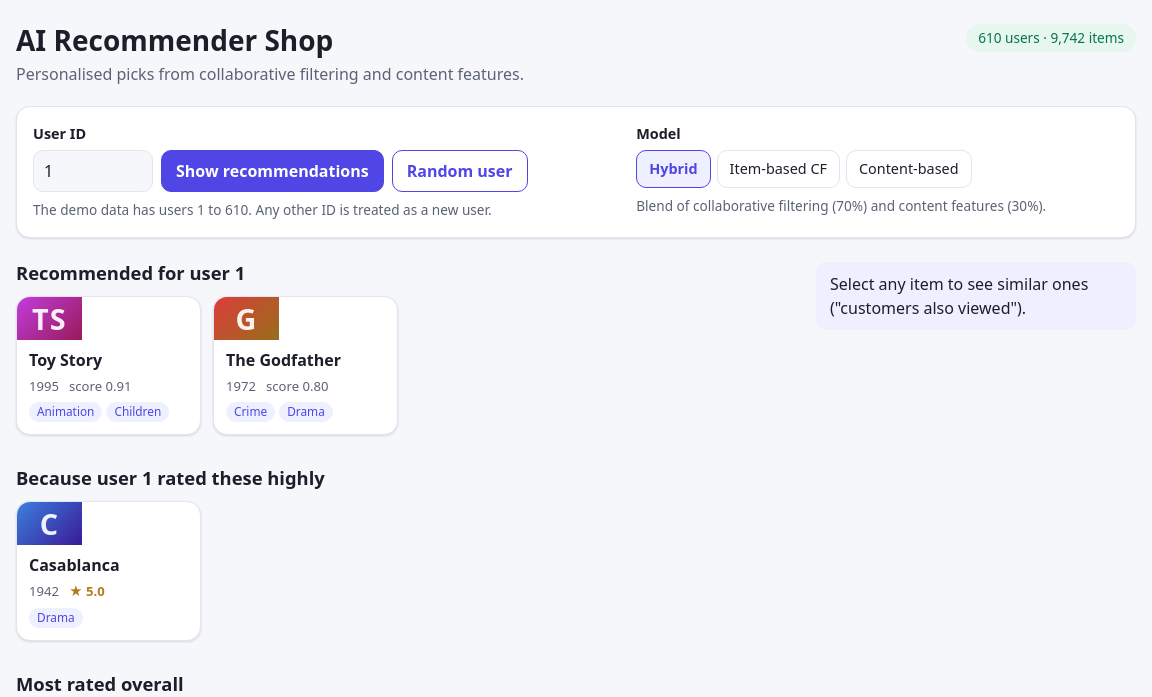
Test: loads another user when the form is submitted
The width and height of the screenshot is (1152, 697).
Expected: the text "The Godfather" is shown, left=226, top=350, right=341, bottom=371
Replace the text in the number field labelled "User ID" with "7" at (93, 171), box left=33, top=150, right=153, bottom=192
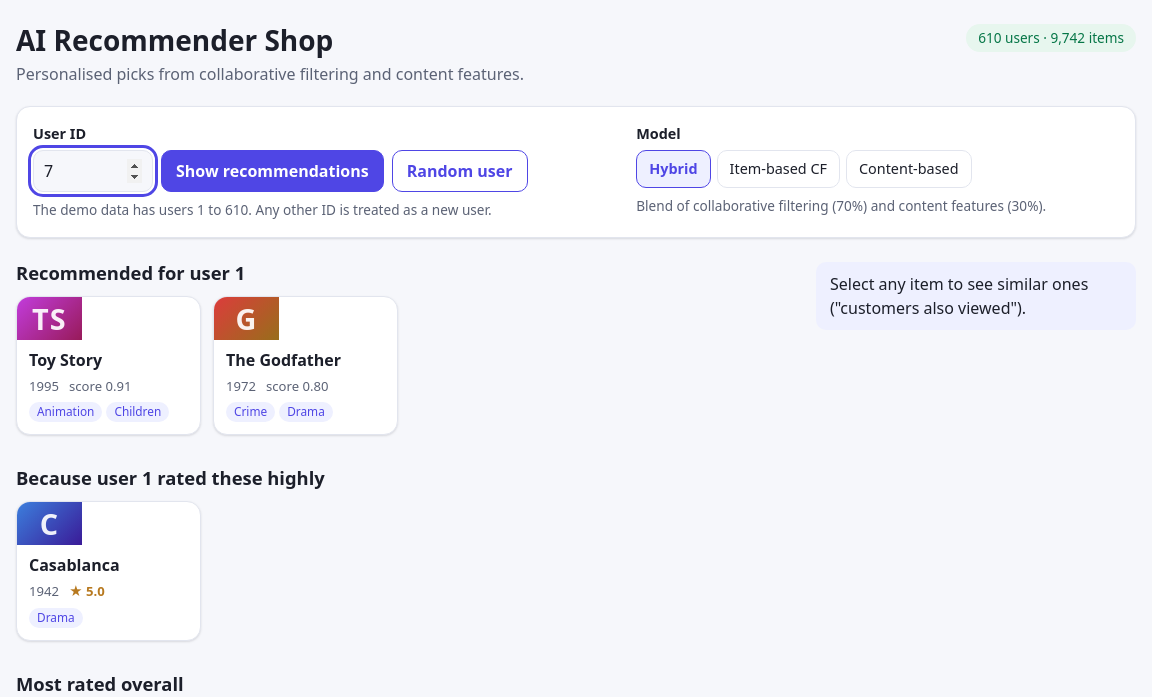
Click the button "Show recommendations" at (272, 171), box left=161, top=150, right=384, bottom=192
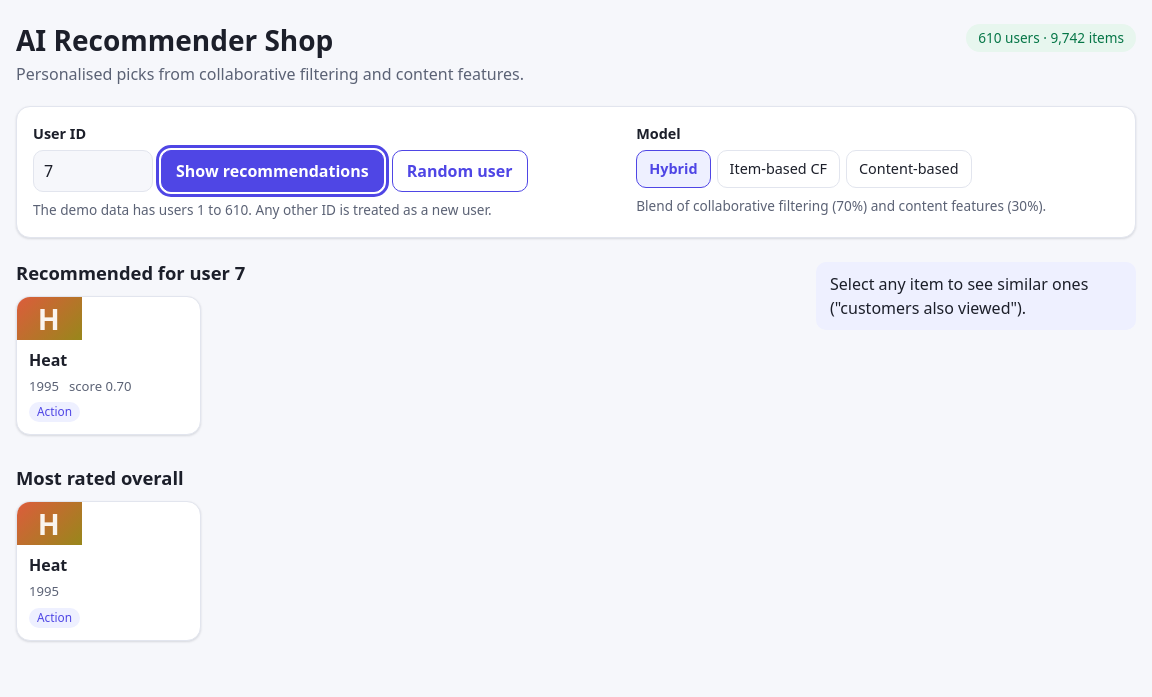
Expected: the heading "Recommended for user 7" is shown, left=16, top=260, right=245, bottom=285
